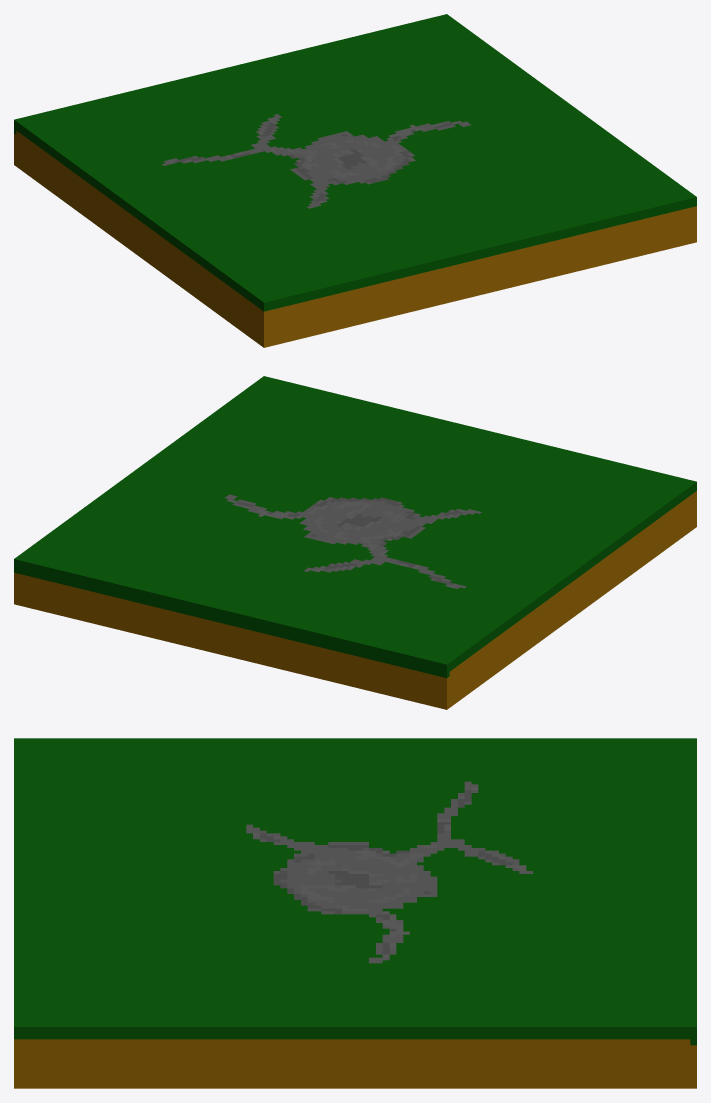
File: grundfläche.obj
The picture shows the model from 3 angles, top to bottom: view 1: azimuth 30°, elevation 25°; view 2: azimuth 150°, elevation 25°; view 3: azimuth 270°, elevation 25°; orthographic projection. The views are drawn at different scales.
Bounding box in the file's own units: 10 × 1 × 10.
1 material, 1 textured.
